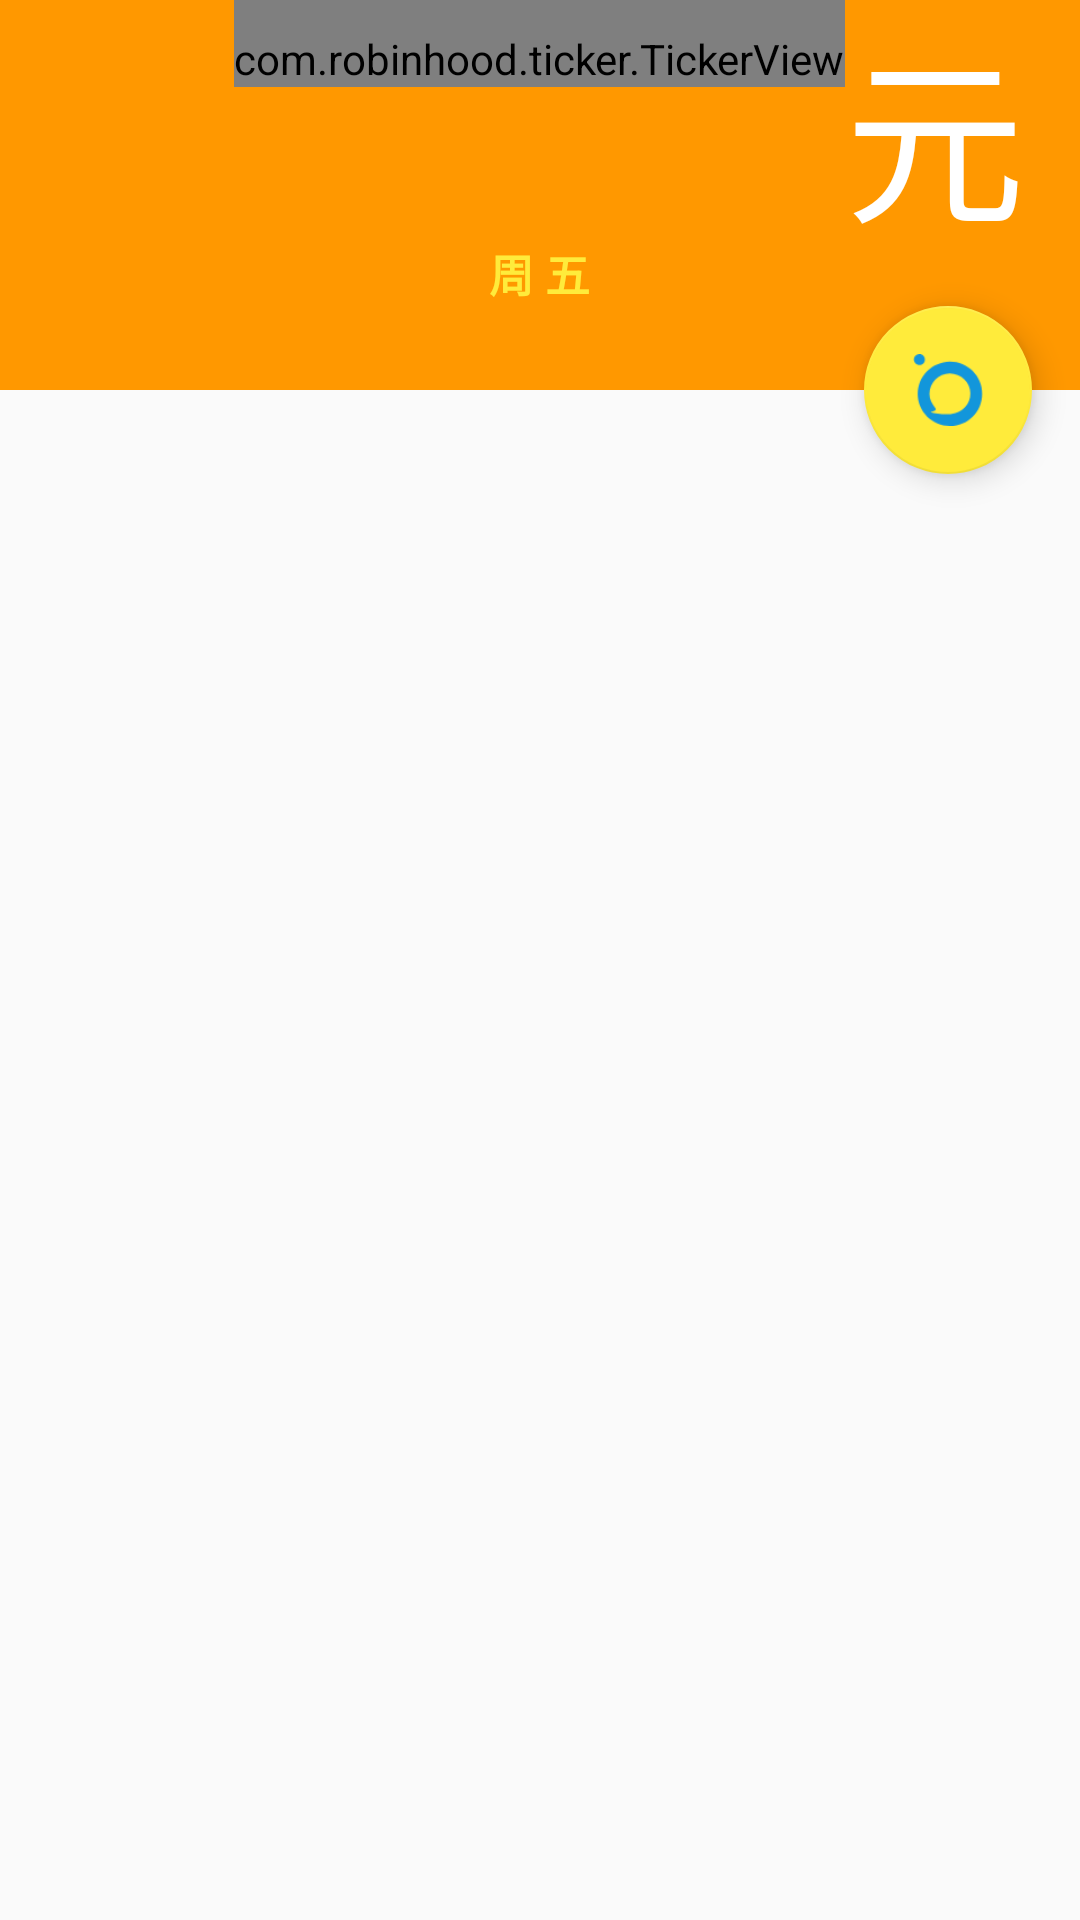

Icons on this 1080w x 1920h Android screen, each with the point to tap as point (x, y):
bubble: point (948, 390)
